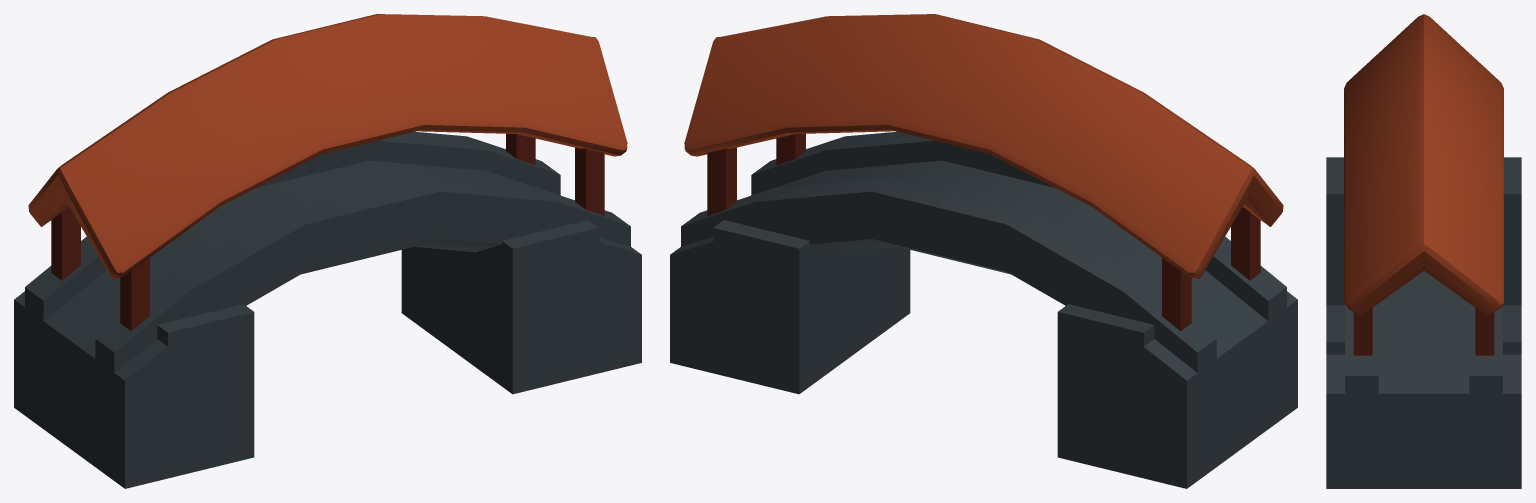
File: bridge_roofed.obj
3 renders of one model, left to right at view 1: azimuth 30°, elevation 25°; view 2: azimuth 150°, elevation 25°; view 3: azimuth 270°, elevation 25°, orthographic. The views are drawn at different scales.
Parts seen in each view (by area): view 1: bridge_roofed_Cylinder.792; view 2: bridge_roofed_Cylinder.792; view 3: bridge_roofed_Cylinder.792.
Boxes of the visible parts, bbox=[...] form: bridge_roofed_Cylinder.792: bbox=[14, 14, 641, 488]; bridge_roofed_Cylinder.792: bbox=[670, 14, 1297, 488]; bridge_roofed_Cylinder.792: bbox=[1326, 14, 1521, 488].
Bounding box in the file's own units: 2.09 × 1.33 × 0.7438.
